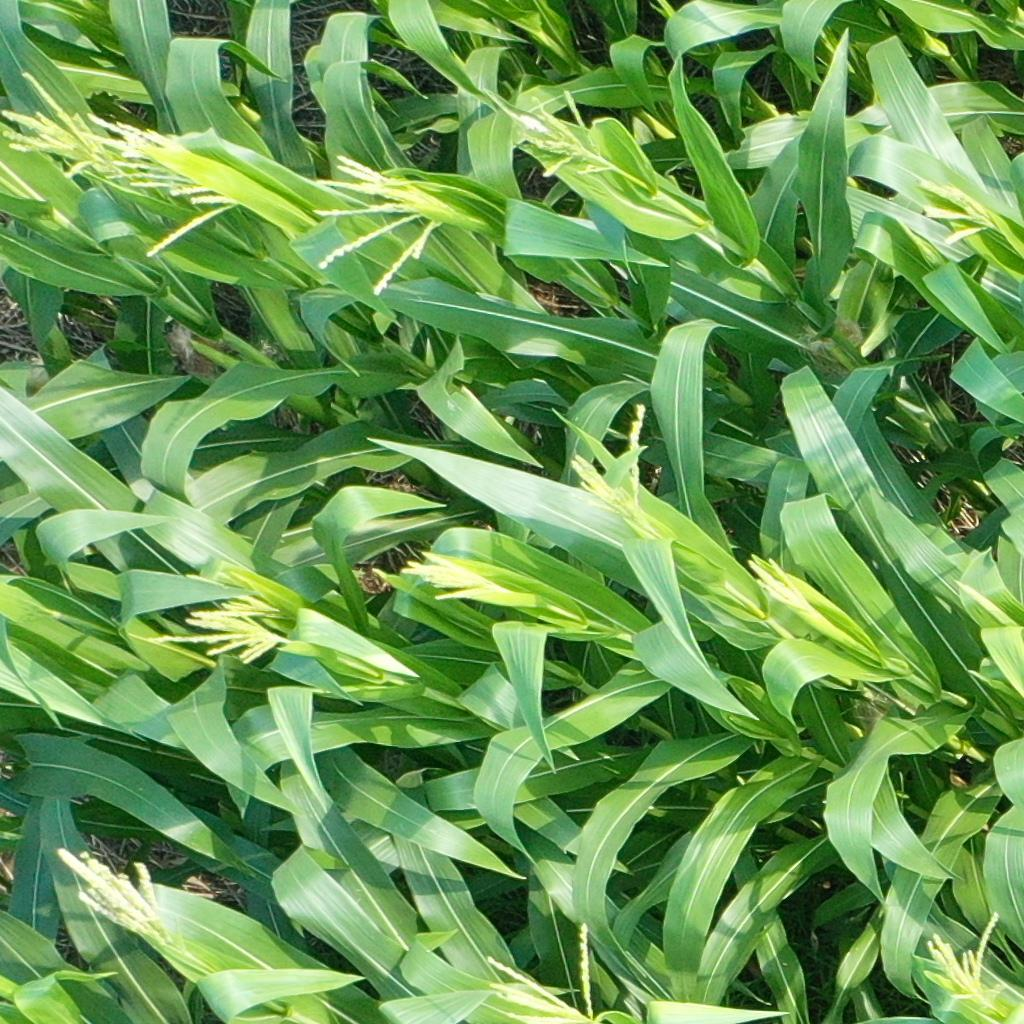Tassel: (82, 108, 248, 260), (302, 149, 453, 300), (1, 67, 128, 182), (480, 919, 600, 1024), (52, 842, 175, 944), (565, 401, 652, 521), (505, 82, 613, 177), (146, 603, 288, 669), (916, 908, 1002, 1001), (181, 560, 283, 619), (912, 175, 994, 246), (399, 548, 498, 601), (742, 552, 813, 607), (950, 575, 1012, 621)
